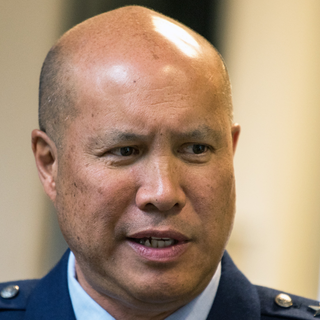eye: (99, 140, 147, 165), (175, 136, 219, 163)
